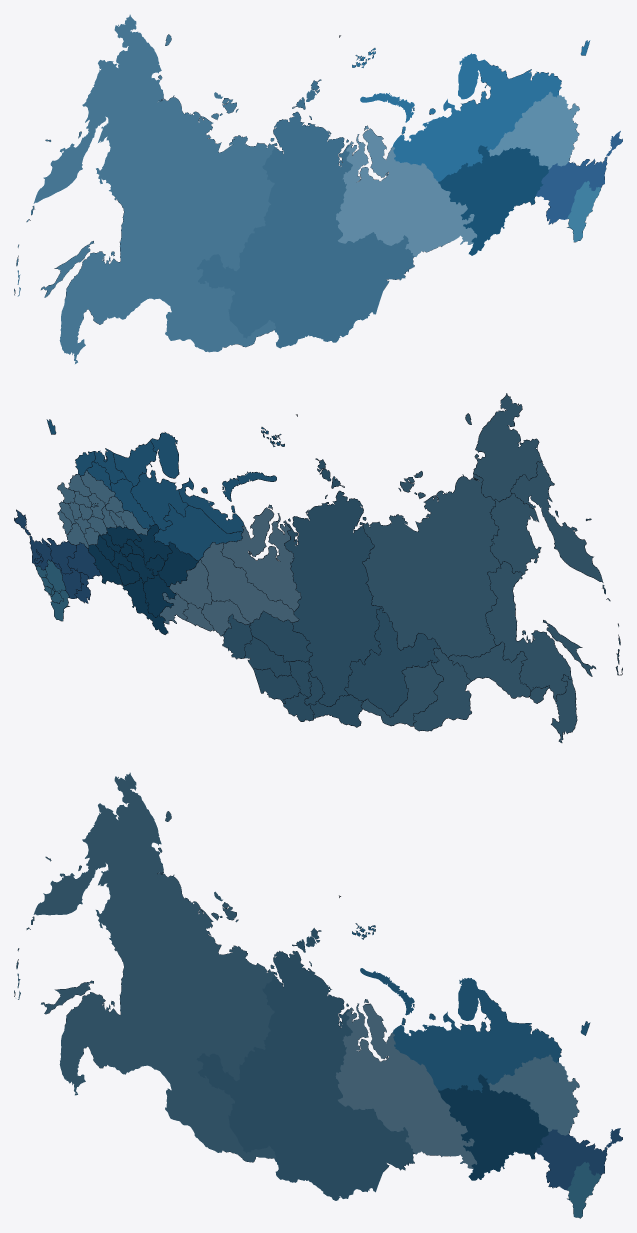
File: Russia.fbx
The picture shows the model from 3 angles, top to bottom: view 1: azimuth 30°, elevation 25°; view 2: azimuth 150°, elevation 25°; view 3: azimuth 330°, elevation 25°; orthographic projection.
Parts seen in each view (by area): view 1: _Sakha__Yakutia___13, _Krasnoyarsk__12, _Khabarovsk__3, _Irkutsk__1, _Chukchi_Autonomous_Okrug__5, _Yamal_Nenets__7, _Khanty_Mansiy__1, _Kamchatka__5, _Maga_Buryatdan__1, _Chita__1, _Komi__1, _Amur__1 (+28 smaller); view 2: _Sakha__Yakutia___13, _Krasnoyarsk__12, _Khabarovsk__3, _Irkutsk__1, _Chukchi_Autonomous_Okrug__5, _Yamal_Nenets__7, _Khanty_Mansiy__1, _Kamchatka__5, _Maga_Buryatdan__1, _Chita__1, _Komi__1, _Amur__1 (+29 smaller); view 3: _Sakha__Yakutia___13, _Krasnoyarsk__12, _Khabarovsk__3, _Irkutsk__1, _Chukchi_Autonomous_Okrug__5, _Yamal_Nenets__7, _Khanty_Mansiy__1, _Kamchatka__5, _Maga_Buryatdan__1, _Chita__1, _Komi__1, _Amur__1 (+21 smaller).
Boxes of the visible parts, <box> form: _Sakha__Yakutia___13: <box>136,95,274,278</box>; _Krasnoyarsk__12: <box>255,112,352,327</box>; _Khabarovsk__3: <box>65,182,151,322</box>; _Irkutsk__1: <box>197,227,292,338</box>; _Chukchi_Autonomous_Okrug__5: <box>94,14,163,122</box>; _Yamal_Nenets__7: <box>336,128,415,232</box>; _Khanty_Mansiy__1: <box>338,163,436,243</box>; _Kamchatka__5: <box>33,82,126,203</box>; _Maga_Buryatdan__1: <box>96,114,146,195</box>; _Chita__1: <box>165,269,223,352</box>; _Komi__1: <box>394,124,482,181</box>; _Amur__1: <box>106,263,188,319</box>; _Sakha__Yakutia___13: <box>362,474,500,657</box>; _Krasnoyarsk__12: <box>284,491,381,706</box>; _Khabarovsk__3: <box>485,562,571,701</box>; _Irkutsk__1: <box>344,607,439,717</box>; _Chukchi_Autonomous_Okrug__5: <box>473,393,541,501</box>; _Yamal_Nenets__7: <box>221,508,300,611</box>; _Khanty_Mansiy__1: <box>201,542,298,622</box>; _Kamchatka__5: <box>511,461,602,582</box>; _Maga_Buryatdan__1: <box>490,494,540,574</box>; _Chita__1: <box>413,648,471,730</box>; _Komi__1: <box>154,504,242,560</box>; _Amur__1: <box>448,642,530,698</box>; _Sakha__Yakutia___13: <box>136,868,274,1080</box>; _Krasnoyarsk__12: <box>255,951,352,1173</box>; _Khabarovsk__3: <box>65,941,151,1058</box>; _Irkutsk__1: <box>196,1047,292,1153</box>; _Chukchi_Autonomous_Okrug__5: <box>95,772,163,886</box>; _Yamal_Nenets__7: <box>335,1003,415,1094</box>; _Khanty_Mansiy__1: <box>338,1060,436,1126</box>; _Kamchatka__5: <box>33,823,126,915</box>; _Maga_Buryatdan__1: <box>96,869,146,948</box>; _Chita__1: <box>165,1059,223,1152</box>; _Komi__1: <box>394,1037,482,1092</box>; _Amur__1: <box>106,1022,188,1077</box>.
Bounding box in the file's own units: 1085392 × 645014 × 100.
